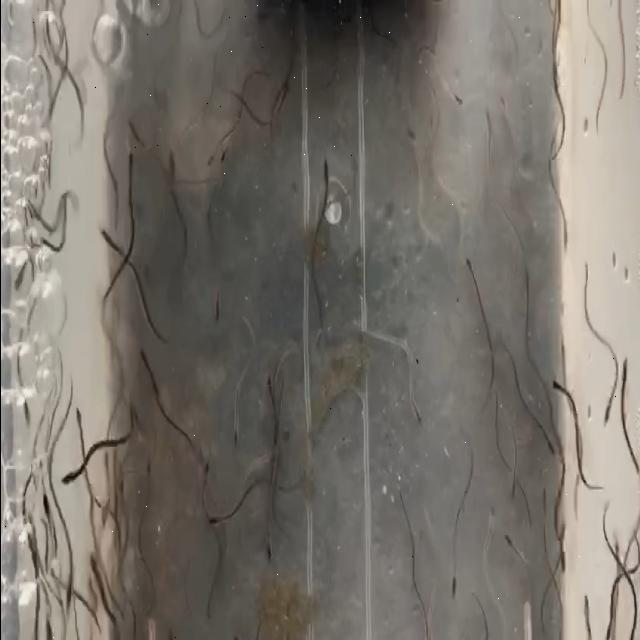active_glass_eel: (472, 480, 500, 547), (591, 364, 616, 424), (402, 399, 431, 444), (442, 567, 470, 611), (501, 496, 520, 559), (316, 154, 339, 206), (616, 326, 634, 384), (552, 534, 570, 589), (460, 248, 483, 290), (24, 532, 44, 580), (36, 590, 55, 640), (208, 145, 232, 181), (95, 211, 112, 261), (542, 0, 566, 34), (556, 205, 576, 245), (87, 516, 99, 582), (206, 288, 222, 336), (479, 96, 494, 146), (69, 181, 86, 225), (534, 421, 554, 458), (266, 427, 289, 459), (192, 454, 208, 500), (262, 519, 276, 571), (547, 28, 565, 68), (161, 144, 185, 174), (18, 398, 36, 438), (132, 473, 150, 512), (404, 107, 418, 155), (72, 395, 84, 451), (274, 76, 292, 112), (558, 377, 575, 415), (95, 114, 112, 152), (263, 370, 279, 410), (555, 500, 569, 544), (581, 574, 593, 625), (450, 75, 466, 113), (41, 493, 58, 528), (10, 266, 28, 298), (124, 147, 136, 195), (60, 568, 72, 616), (58, 453, 70, 498), (204, 506, 218, 544), (223, 418, 240, 447), (505, 425, 523, 451), (134, 346, 148, 377), (118, 115, 134, 142), (128, 401, 142, 430), (99, 448, 113, 472)
